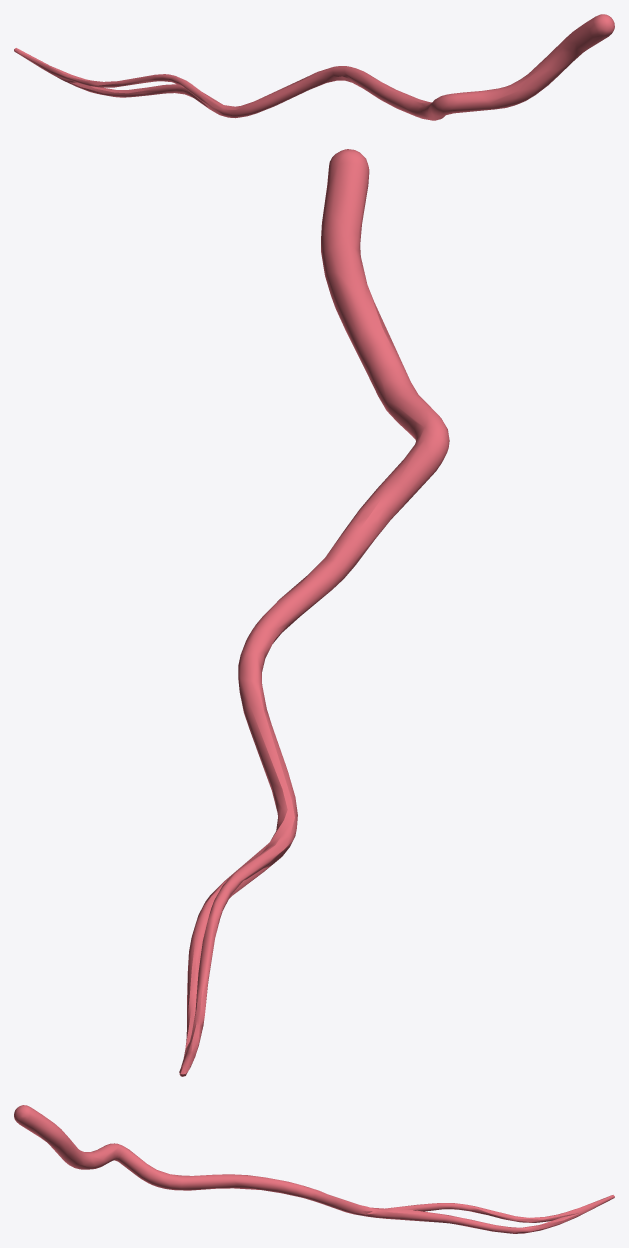
File: fma50680_fj1680.glb
The picture shows the model from 3 angles, top to bottom: view 1: azimuth 30°, elevation 25°; view 2: azimuth 150°, elevation 25°; view 3: azimuth 270°, elevation 25°; orthographic projection. The views are drawn at different scales.
Parts seen in each view (by area): view 1: FMA50680_FJ1680; view 2: FMA50680_FJ1680; view 3: FMA50680_FJ1680.
Part boxes in pixels (<box>): FMA50680_FJ1680: <box>14,14,614,120</box>; FMA50680_FJ1680: <box>179,149,449,1076</box>; FMA50680_FJ1680: <box>14,1105,614,1233</box>.
Bounding box in the file's own units: 0.0184 × 0.0168 × 0.0431.
